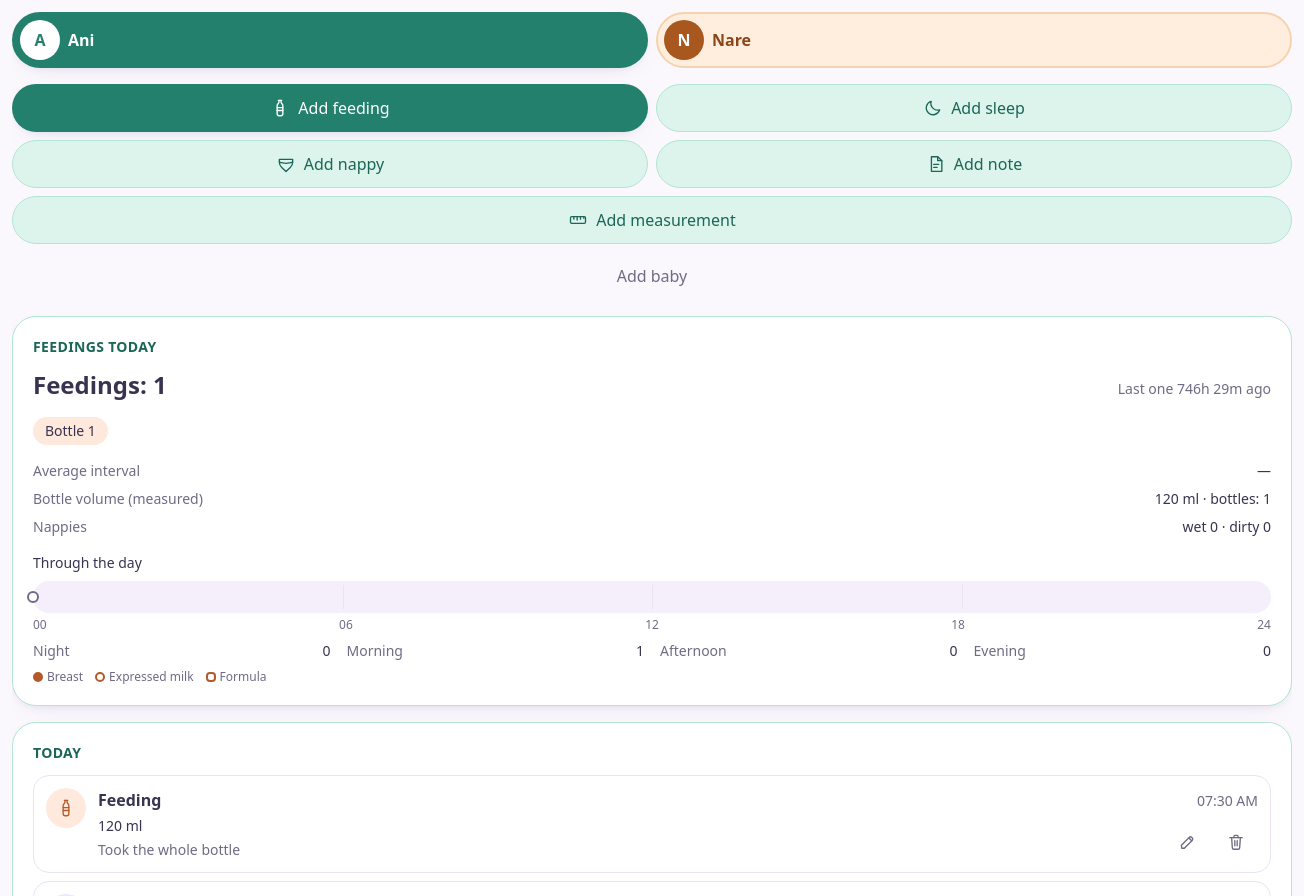
Test: events › loads the other baby’s events when the tab is switched
Check: the text "Took the whole bottle" is shown, box [98,840,240,860]
Click the tab "N Nare": (684, 40) [656,12,1292,68]
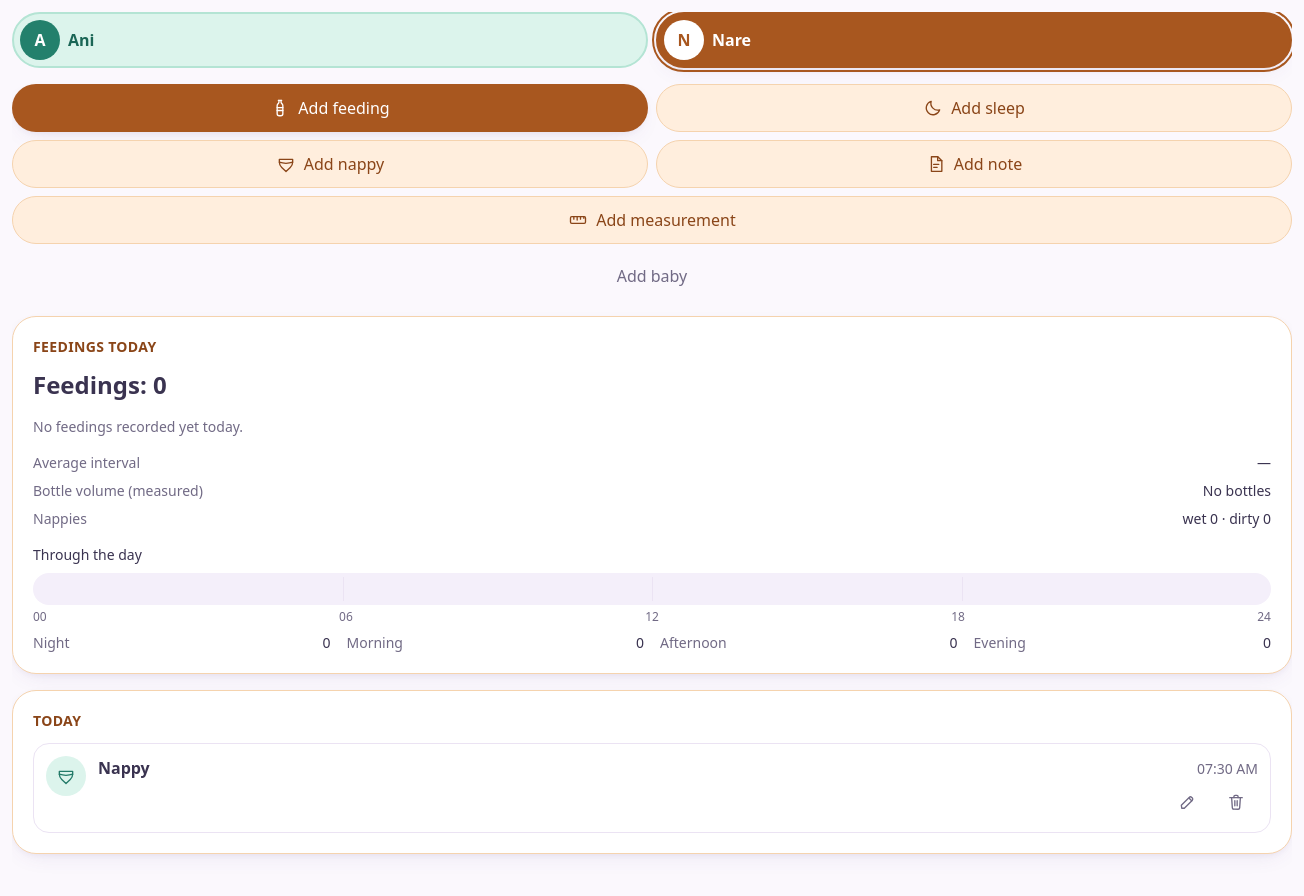
Check: the text "Nappy" is shown, box [98,756,150,780]
Check: the text "Took the whole bottle" is gone
